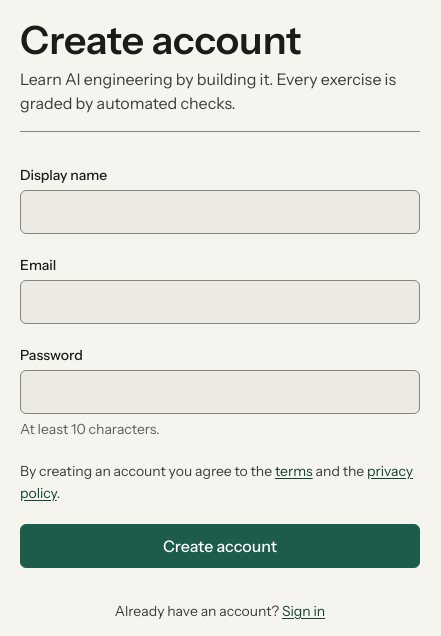
Test: AuthPage › shows the check-your-inbox state after registering, leaving the resend to the banner
Type "A" into the field labelled "Display name" at (220,212), box [20,190,420,234]
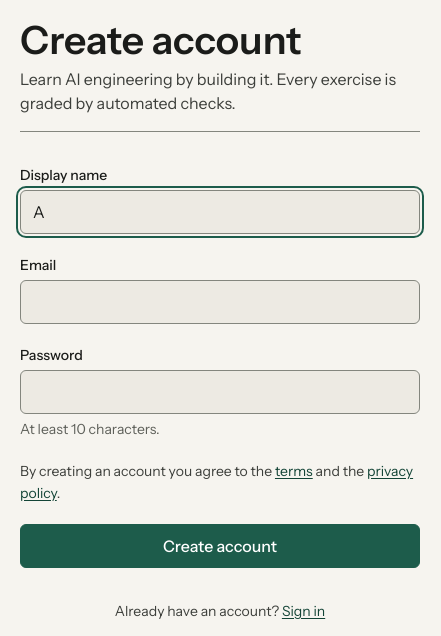
Type "a@example.com" into the field labelled "Email" at (220,302), box [20,280,420,324]
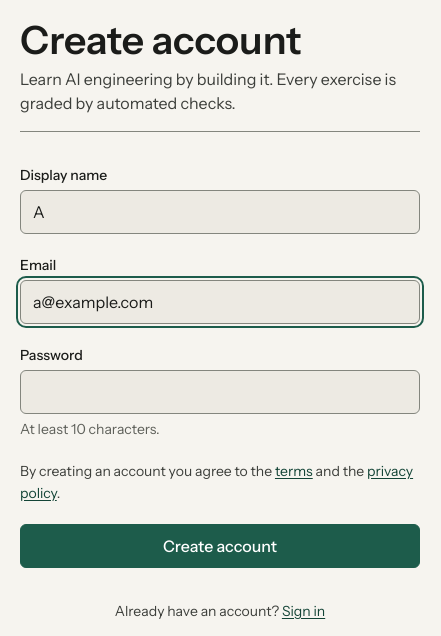
Type "correct horse battery" into the password field labelled "Password" at (220,392), box [20,370,420,414]
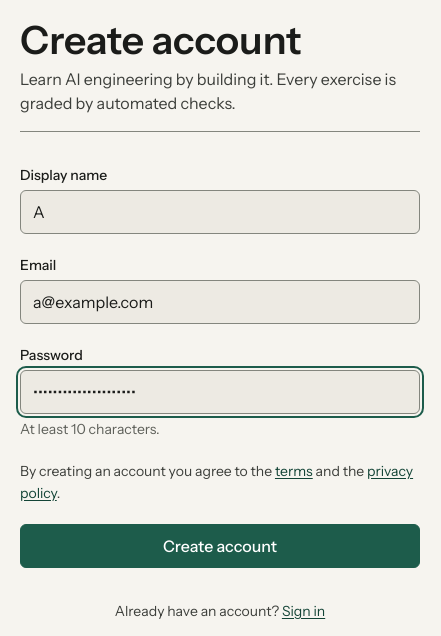
Click the button "Create account" at (220,546), box [20,524,420,568]
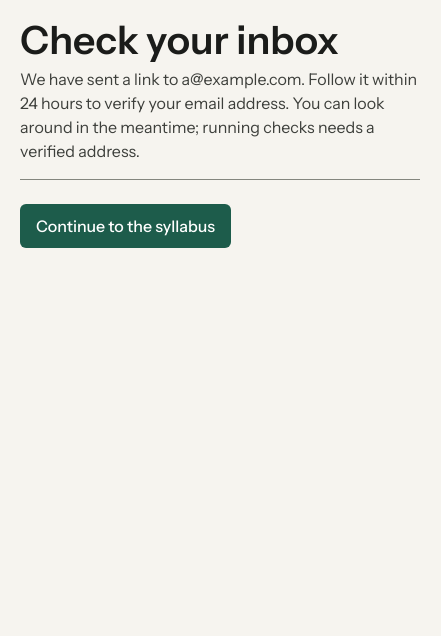
Check: the heading "Check your inbox" is shown, box [20,16,339,64]
Check: the text "sent a link to a@example.com" is shown, box [20,69,417,161]
